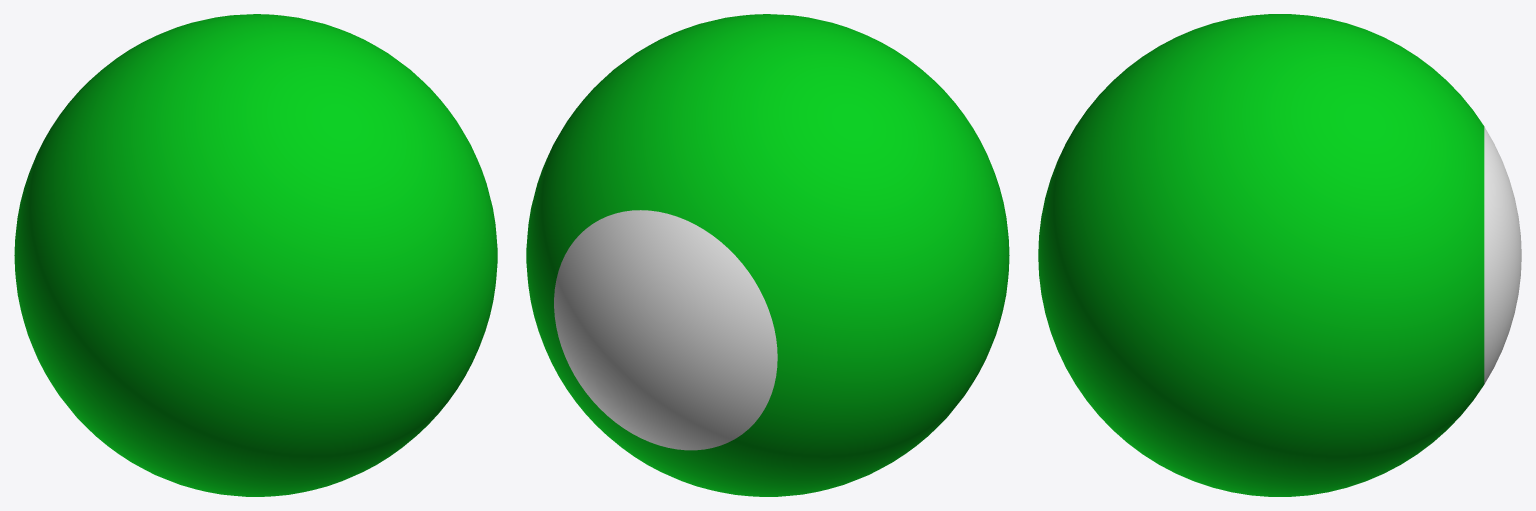
Rendered from 6Ball.dae.
The picture shows the model from 3 angles, left to right: view 1: azimuth 30°, elevation 25°; view 2: azimuth 150°, elevation 25°; view 3: azimuth 270°, elevation 25°; orthographic projection.
Bounding box in the file's own units: 0.0571 × 0.0572 × 0.0571.
